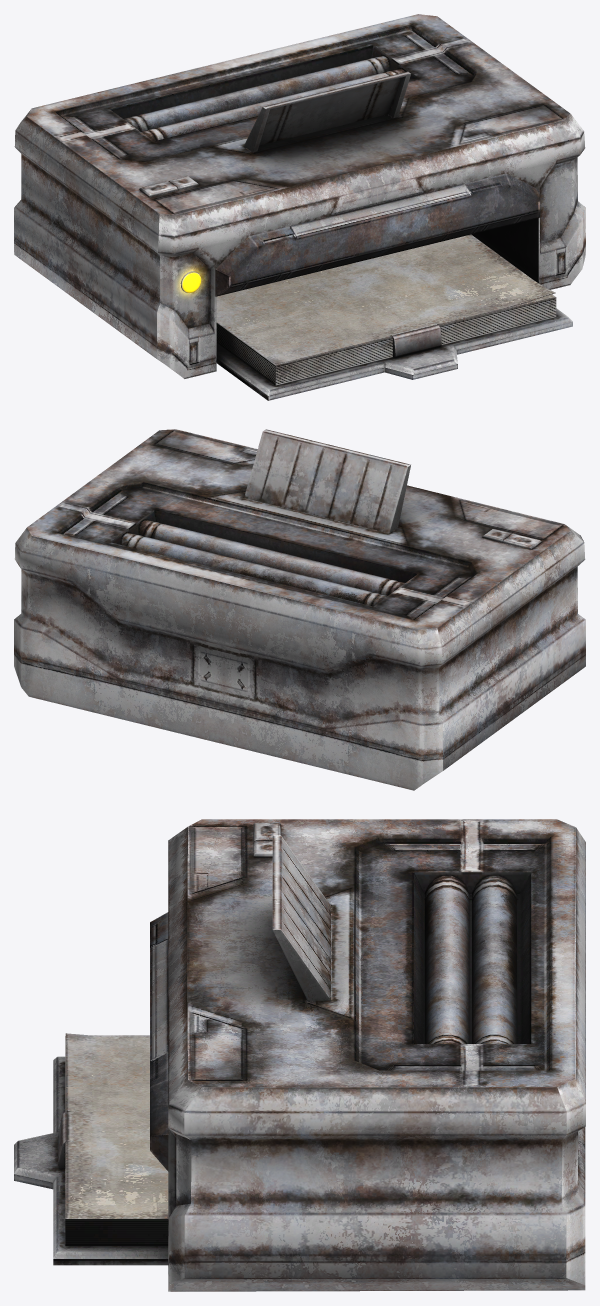
The model's file is printer_office_theta.DAE.
3 views of the same model, one above another, from view 1: azimuth 30°, elevation 25°; view 2: azimuth 150°, elevation 25°; view 3: azimuth 270°, elevation 25° (orthographic). The views are drawn at different scales.
Parts seen in each view (by area): view 1: printer_office_theta; view 2: printer_office_theta; view 3: printer_office_theta.
Part boxes in pixels (x1,y1,x2,y2): printer_office_theta: [14, 14, 585, 400]; printer_office_theta: [14, 429, 585, 790]; printer_office_theta: [14, 819, 585, 1291].
Size of the model in its own units: 63.87 by 30.17 by 55.18.
